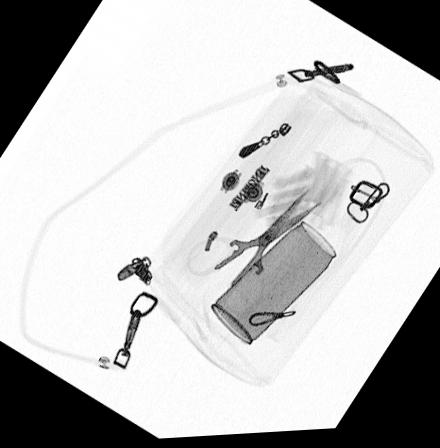Scissors: (180, 185, 327, 324)
